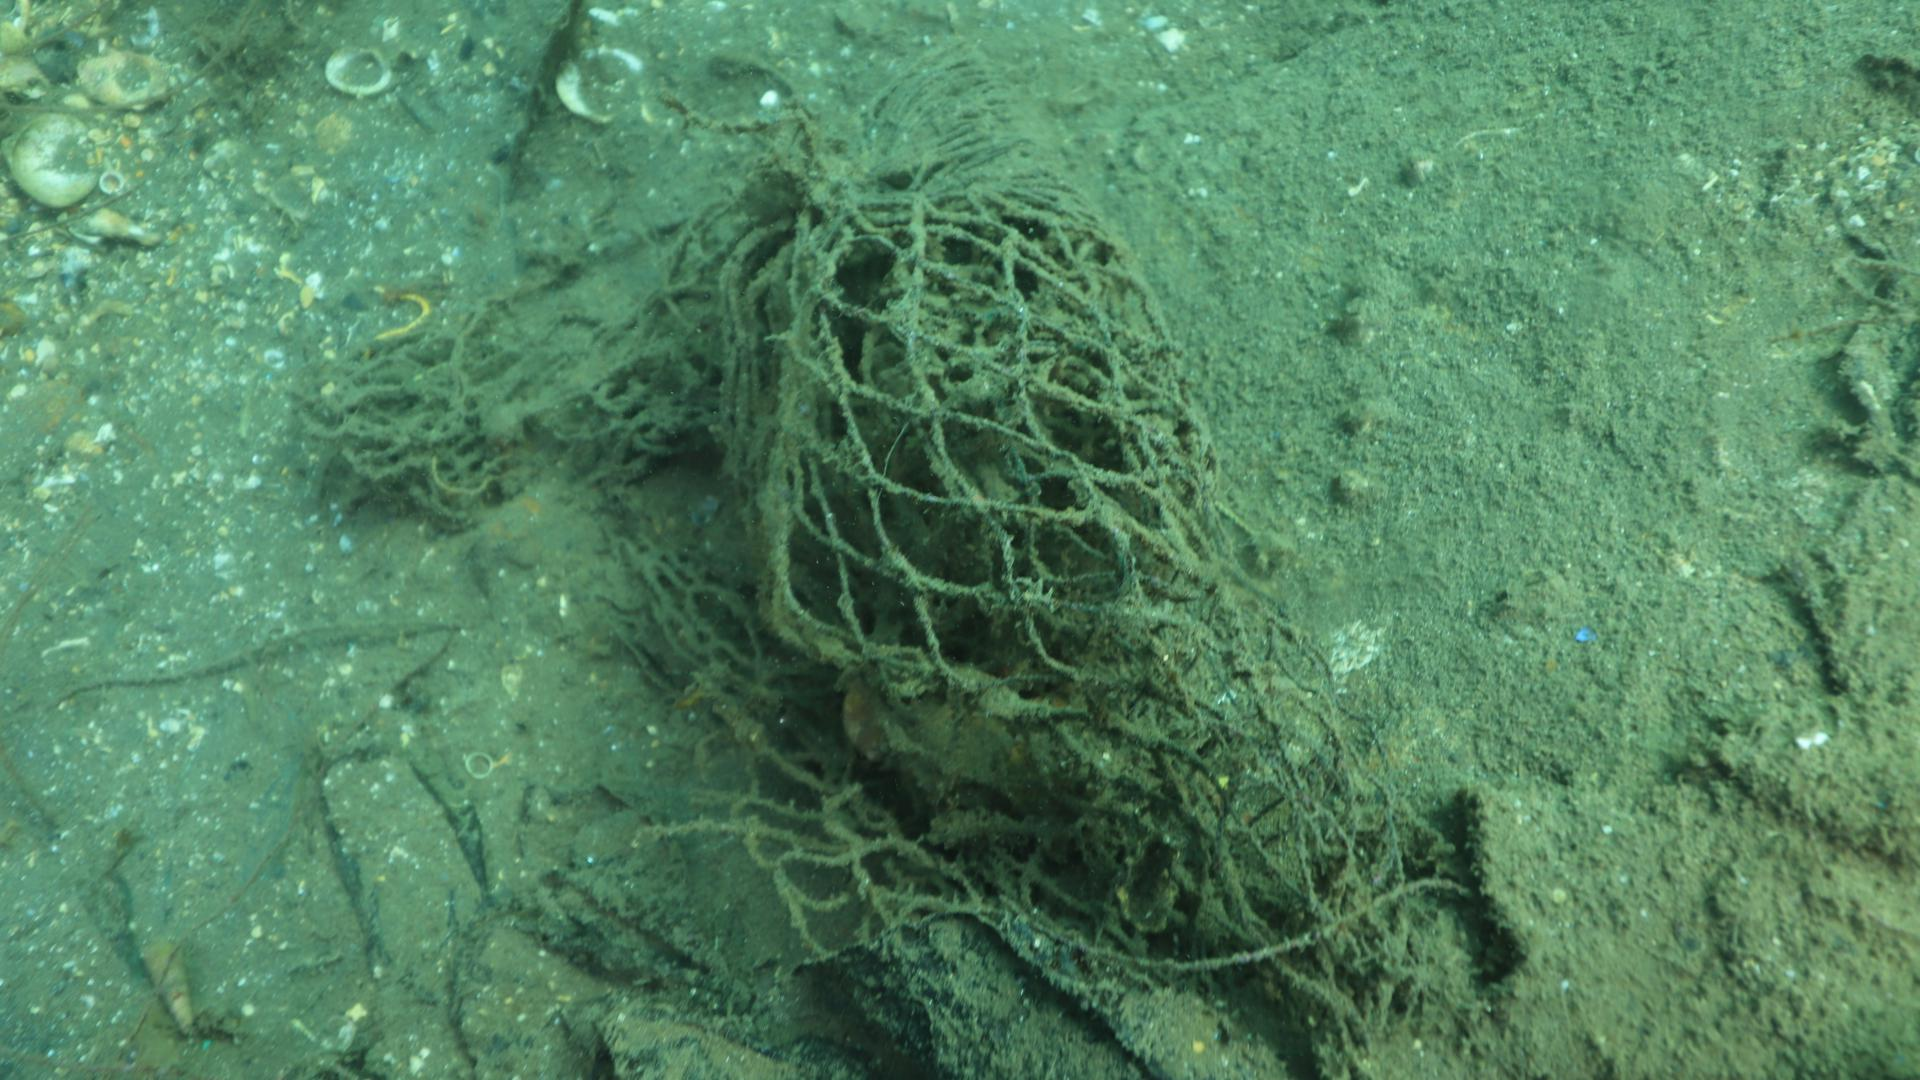fish net: (777, 170, 1250, 686)
